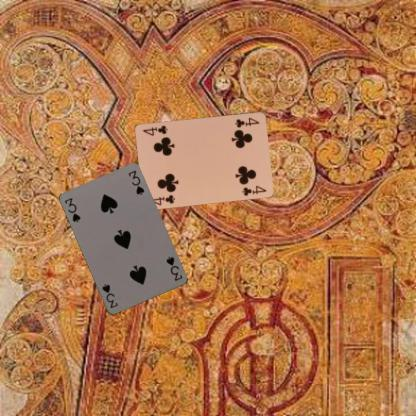3s: (62, 195, 82, 224), (164, 254, 184, 282)
4c: (232, 115, 261, 129), (148, 192, 176, 206)
